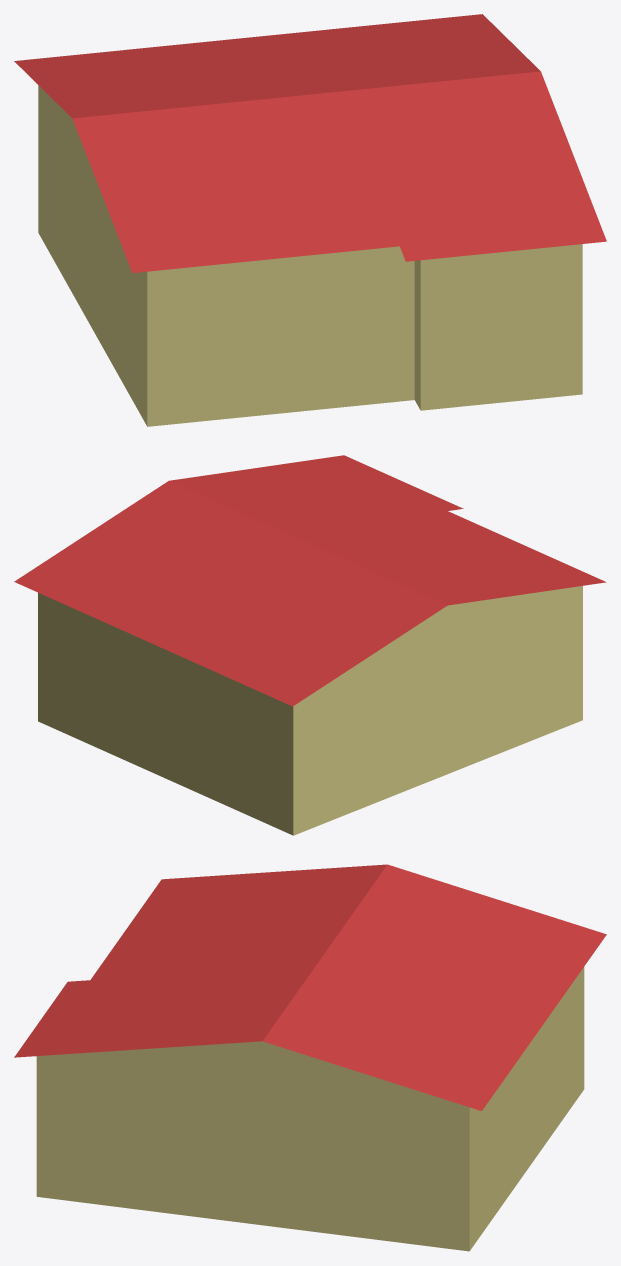
The picture shows the model from 3 angles, top to bottom: view 1: azimuth 30°, elevation 25°; view 2: azimuth 150°, elevation 25°; view 3: azimuth 270°, elevation 25°; orthographic projection. The views are drawn at different scales.
Size of the model in its own units: 30.13 by 32.39 by 11.58.
